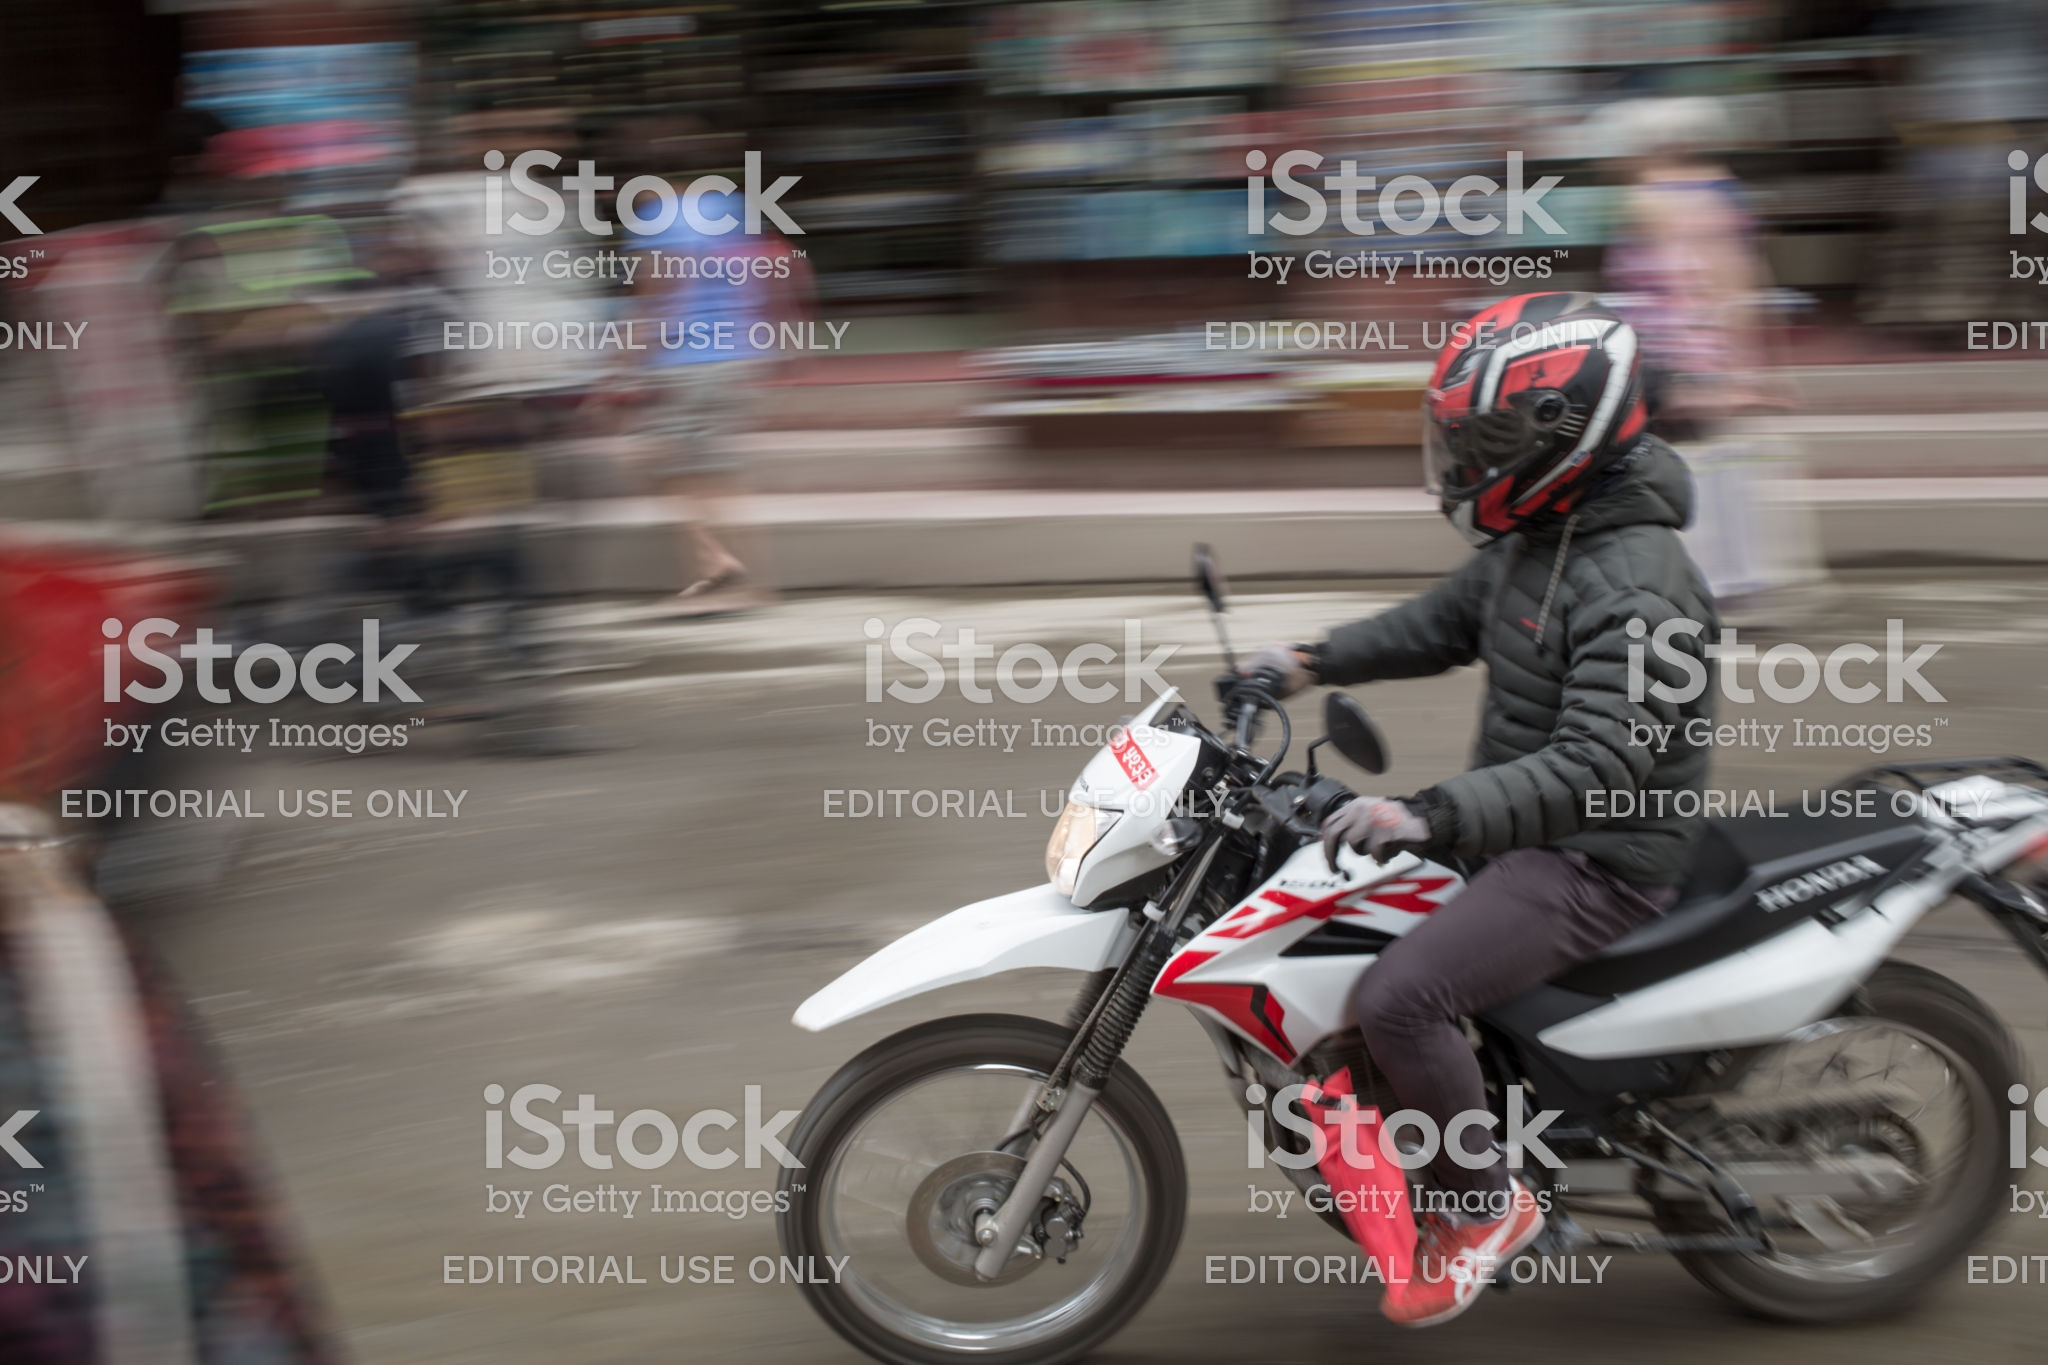helmet: (1419, 288, 1673, 538)
